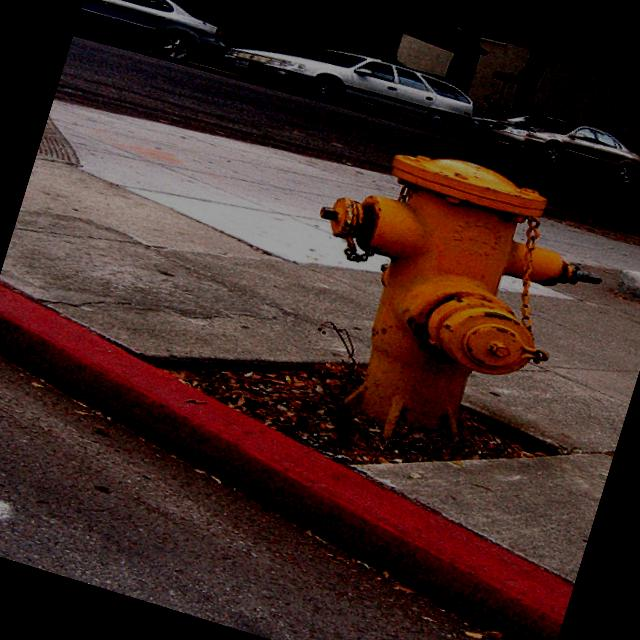Vehicle: (217, 14, 485, 148), (457, 89, 640, 192), (72, 0, 239, 79)
